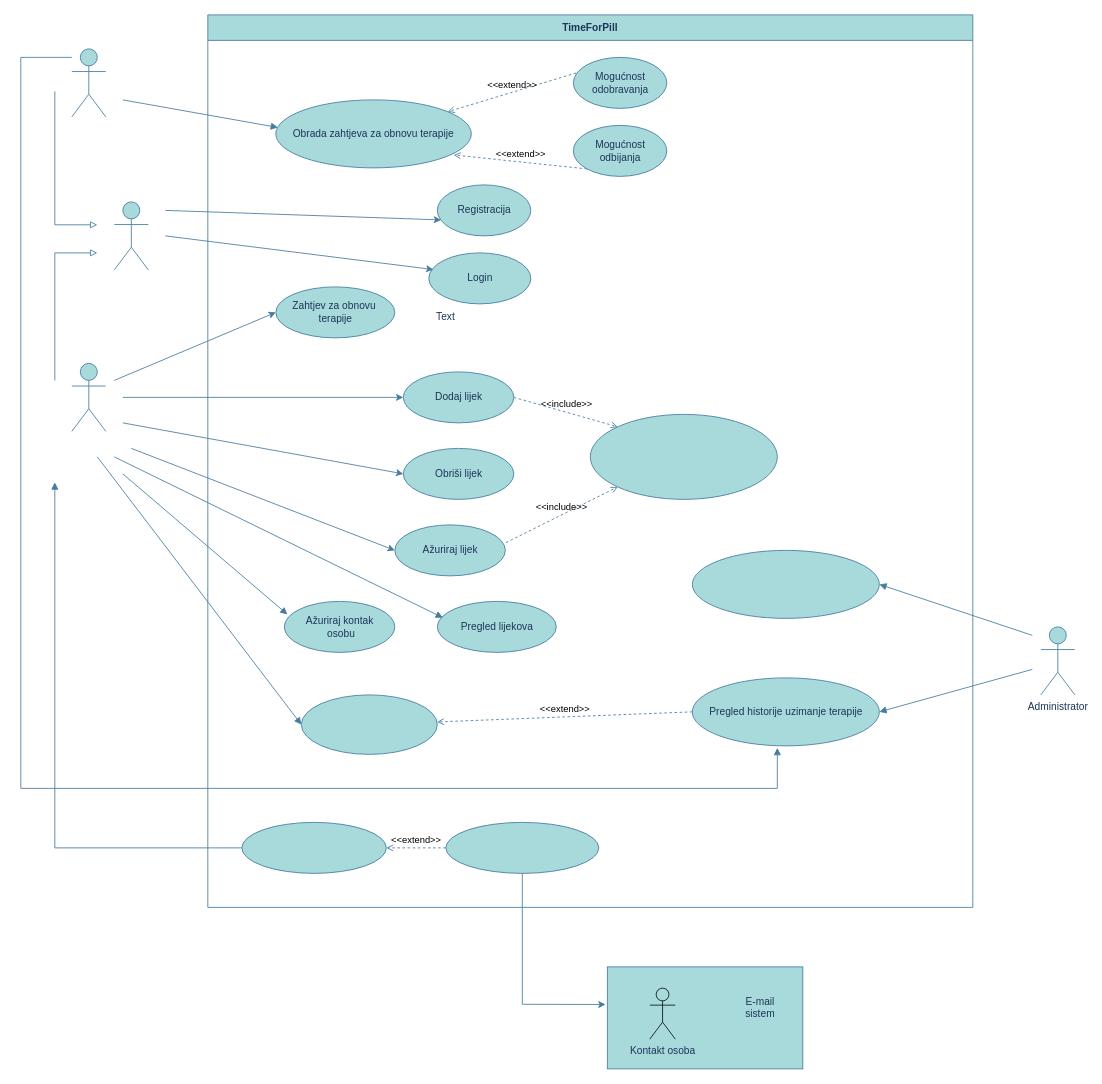
This 1102x1084 diagram has some shape labels left out. Here are the shapes that lost their labels. From the top down, the box of each, then its label:
(71, 48, 106, 117): Korisnik ljekar
(113, 201, 148, 270): Korisnik
(71, 363, 106, 431): Korisnik pacijent
(589, 414, 777, 499): Generisanje rasporeda terapije
(691, 550, 879, 618): Upravljanje korisničkim računima
(300, 694, 437, 754): Evidentiranje korištenja terapije i nuspojava
(241, 822, 386, 873): Slanje notifikacija
(445, 822, 599, 873): Slanje kontakt osobi
